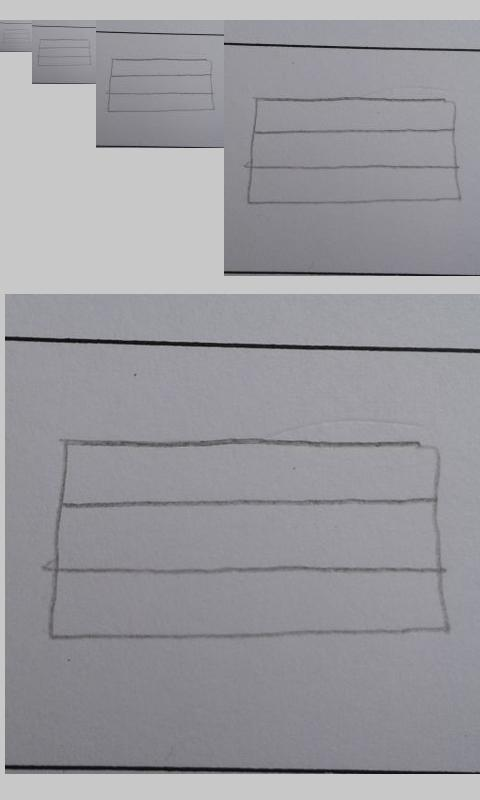list_view: (45, 433, 453, 646), (246, 95, 462, 206), (106, 56, 216, 113), (36, 36, 93, 69), (2, 28, 32, 44)
